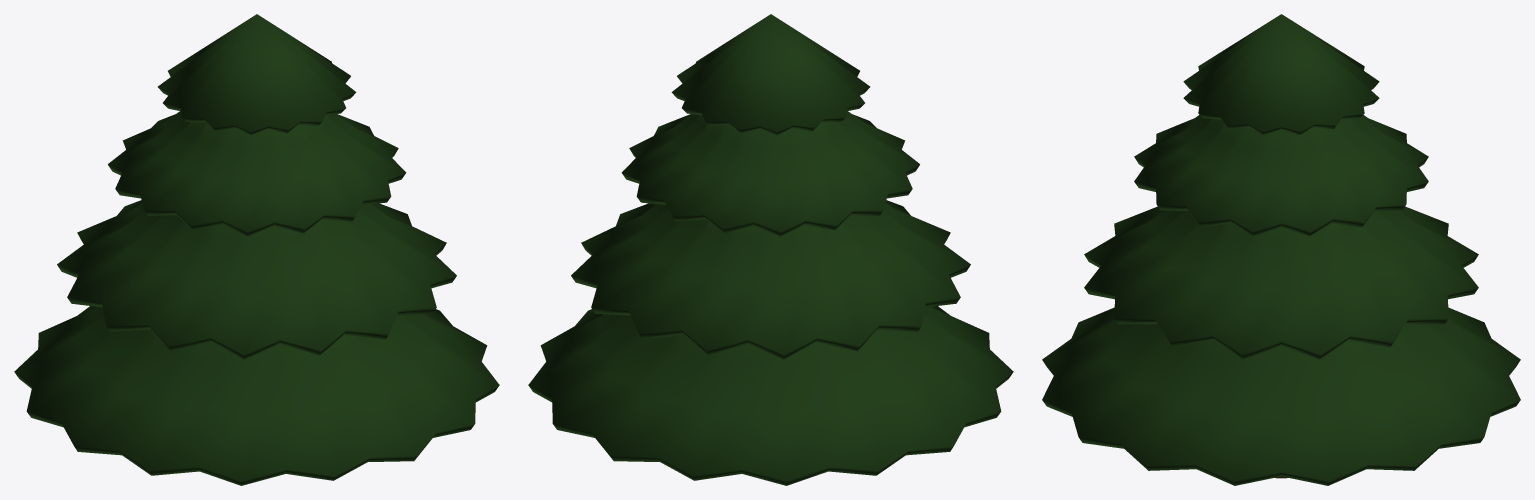
The model's file is TerrainAsetts 1.fbx.
3 views of the same model, side by side, from view 1: azimuth 30°, elevation 25°; view 2: azimuth 150°, elevation 25°; view 3: azimuth 270°, elevation 25° (orthographic).
Visible parts, largest first — view 1: Circle.003; view 2: Circle.003; view 3: Circle.003.
Boxes of the visible parts, x1,y1,x2,y2 form: Circle.003: (14, 14, 499, 485); Circle.003: (528, 14, 1013, 485); Circle.003: (1042, 14, 1520, 485).
Size of the model in its own units: 668 by 695 by 668.
